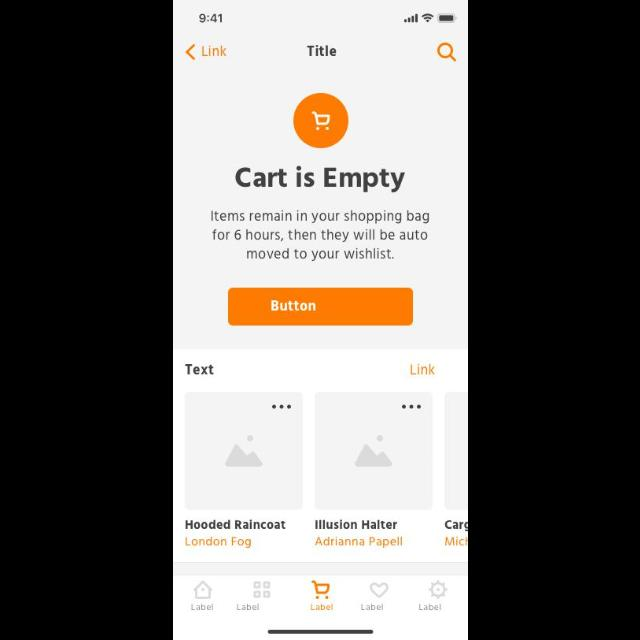icon: (292, 94, 348, 148), (310, 578, 330, 600), (437, 43, 457, 63), (192, 581, 212, 599), (252, 579, 270, 599), (428, 581, 448, 599), (368, 582, 388, 598), (185, 44, 197, 62), (270, 404, 290, 410), (401, 404, 421, 408)
image: (314, 392, 432, 511), (184, 392, 302, 511), (444, 392, 468, 510)
text: (210, 210, 430, 262), (234, 164, 406, 193), (185, 518, 287, 530), (314, 536, 402, 548), (314, 518, 398, 530), (185, 536, 251, 548), (183, 362, 214, 376), (306, 44, 336, 58), (201, 46, 227, 59), (444, 520, 468, 532), (408, 364, 434, 374), (358, 602, 384, 612), (445, 536, 467, 546), (309, 603, 333, 611), (234, 603, 258, 611), (190, 602, 214, 610), (418, 602, 440, 610)
textbutton: (228, 288, 414, 326)
uppertaskbar: (198, 13, 458, 24)
